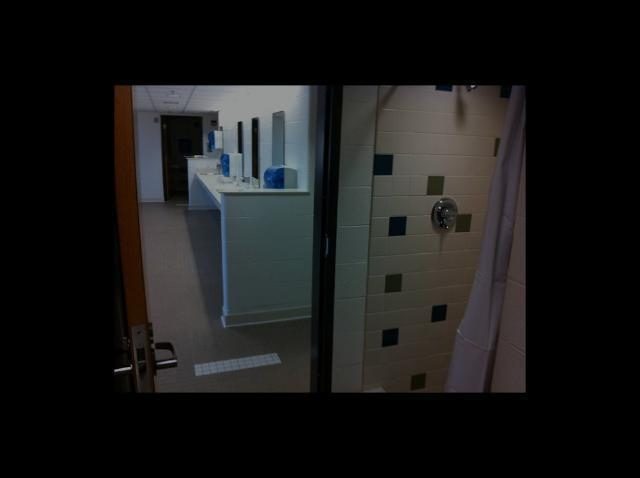Ducha: (326, 86, 526, 392)
Lavamanos: (200, 159, 226, 175), (218, 177, 242, 189)
